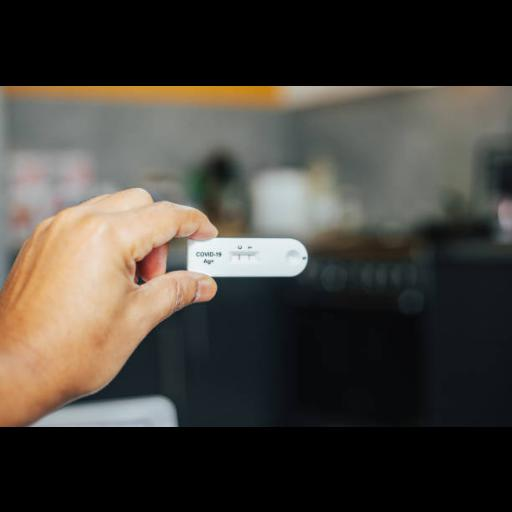Pos: (188, 236, 306, 274)
